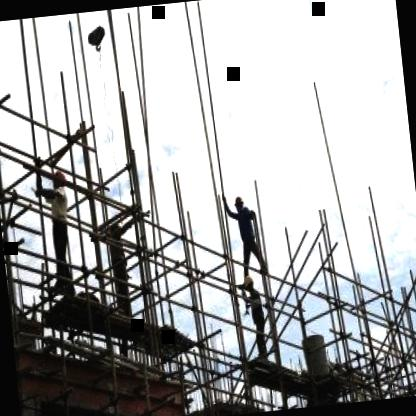helmet: (50, 168, 66, 190), (242, 271, 254, 293), (233, 193, 244, 214)
